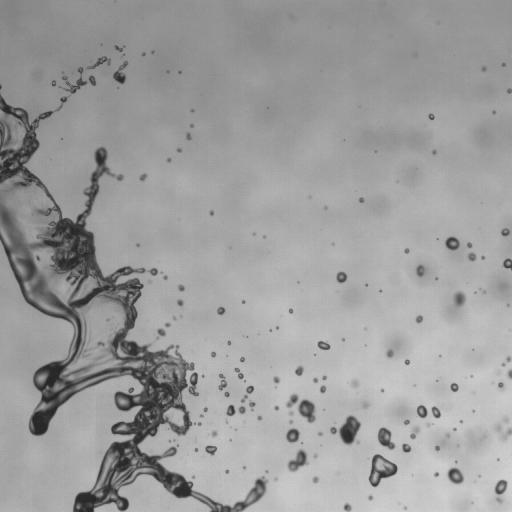droplet: (368, 454, 397, 487), (330, 415, 361, 445), (287, 449, 308, 472), (377, 427, 395, 449), (446, 467, 463, 484), (495, 423, 511, 441), (226, 404, 245, 416), (285, 428, 300, 442), (445, 236, 459, 250), (431, 404, 445, 418), (453, 291, 465, 306), (336, 271, 347, 283), (417, 405, 427, 418), (410, 425, 420, 438), (205, 445, 217, 455), (502, 258, 511, 270), (317, 341, 330, 349), (416, 265, 424, 276), (467, 252, 476, 261), (402, 443, 411, 452), (157, 328, 165, 338), (295, 365, 303, 375), (501, 228, 509, 236), (450, 383, 458, 391), (343, 503, 351, 511), (139, 173, 147, 180), (217, 307, 225, 314), (386, 349, 393, 357), (351, 380, 359, 387), (249, 401, 255, 410), (210, 430, 217, 437), (416, 315, 422, 323), (273, 376, 279, 384), (498, 382, 504, 390), (320, 385, 326, 393), (178, 284, 184, 291), (177, 299, 183, 306), (312, 476, 318, 483), (115, 46, 122, 51), (186, 133, 191, 140), (78, 67, 83, 73), (428, 114, 434, 119), (506, 356, 511, 362), (404, 359, 409, 365), (363, 402, 368, 408), (358, 197, 363, 202), (467, 242, 472, 247), (404, 248, 409, 253), (165, 322, 170, 327), (313, 377, 318, 382), (274, 405, 279, 410), (288, 410, 293, 415), (503, 417, 508, 422), (211, 351, 215, 357), (481, 67, 486, 71), (507, 88, 511, 93), (209, 210, 213, 215), (240, 357, 244, 362), (322, 375, 326, 380), (224, 392, 229, 396), (404, 420, 409, 424), (318, 431, 322, 436), (368, 495, 372, 500), (177, 148, 181, 152), (432, 150, 436, 154), (167, 158, 171, 162), (163, 275, 167, 279), (289, 309, 293, 313), (203, 407, 207, 411), (257, 416, 261, 420), (435, 446, 439, 450), (434, 472, 438, 476), (106, 318, 111, 321), (196, 422, 201, 425), (52, 81, 55, 85), (426, 423, 430, 426), (446, 433, 449, 437), (502, 63, 505, 66), (481, 256, 484, 259), (227, 341, 230, 344), (502, 363, 505, 366), (289, 420, 292, 423), (314, 454, 317, 457), (225, 470, 228, 473), (492, 111, 495, 113), (136, 244, 139, 246), (242, 300, 244, 303), (381, 389, 383, 392), (195, 448, 197, 451), (149, 280, 151, 282), (174, 317, 176, 319), (276, 326, 278, 328), (454, 428, 456, 430), (192, 476, 194, 478), (275, 478, 277, 480)
ligament: (0, 94, 265, 511), (285, 393, 315, 423), (62, 75, 95, 93), (494, 479, 507, 503), (113, 61, 127, 83), (88, 56, 110, 68), (241, 386, 254, 402), (55, 96, 67, 111), (218, 373, 227, 389), (234, 368, 243, 379), (507, 369, 511, 379), (0, 85, 1, 91), (0, 195, 1, 198)
